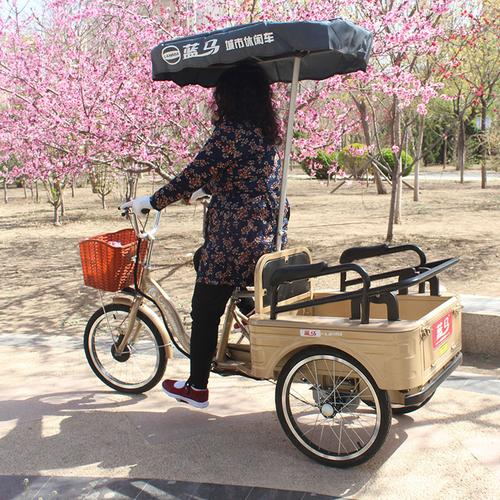driver: (156, 68, 291, 431)
only_driver: (62, 32, 475, 468)
